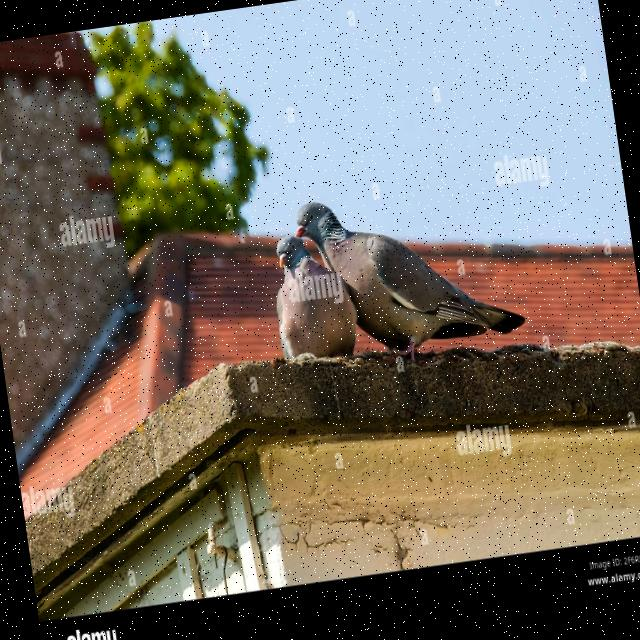bird: (287, 172, 531, 382), (264, 226, 364, 367)
